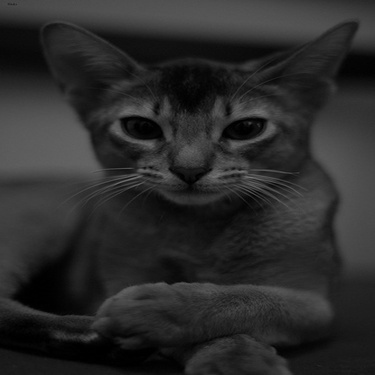cat: (1, 22, 361, 367)
